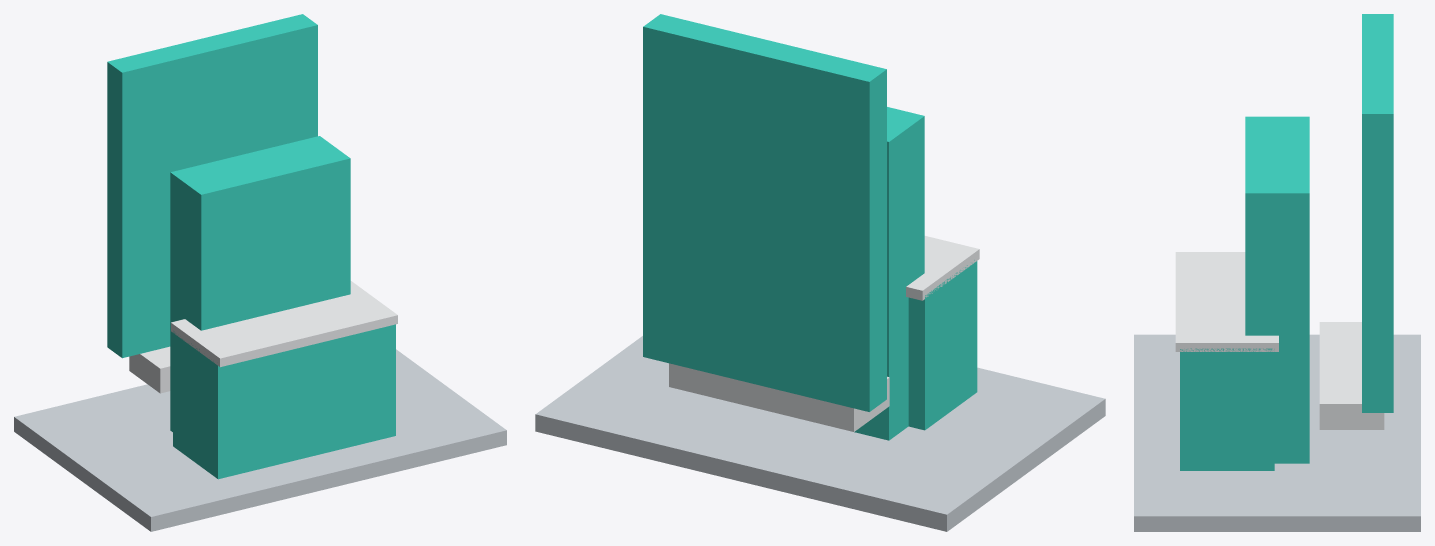
3 views of the same model, side by side, from view 1: azimuth 30°, elevation 25°; view 2: azimuth 150°, elevation 25°; view 3: azimuth 270°, elevation 25° (orthographic). The views are drawn at different scales.
Visible parts, largest first — view 1: Exhibition Booth Concept; view 2: Exhibition Booth Concept; view 3: Exhibition Booth Concept.
Part boxes in pixels (x1,y1,x2,y2): Exhibition Booth Concept: (14,14,506,531); Exhibition Booth Concept: (535,14,1105,531); Exhibition Booth Concept: (1134,14,1420,531).
Bounding box in the file's own units: 3 × 2.9 × 2.
